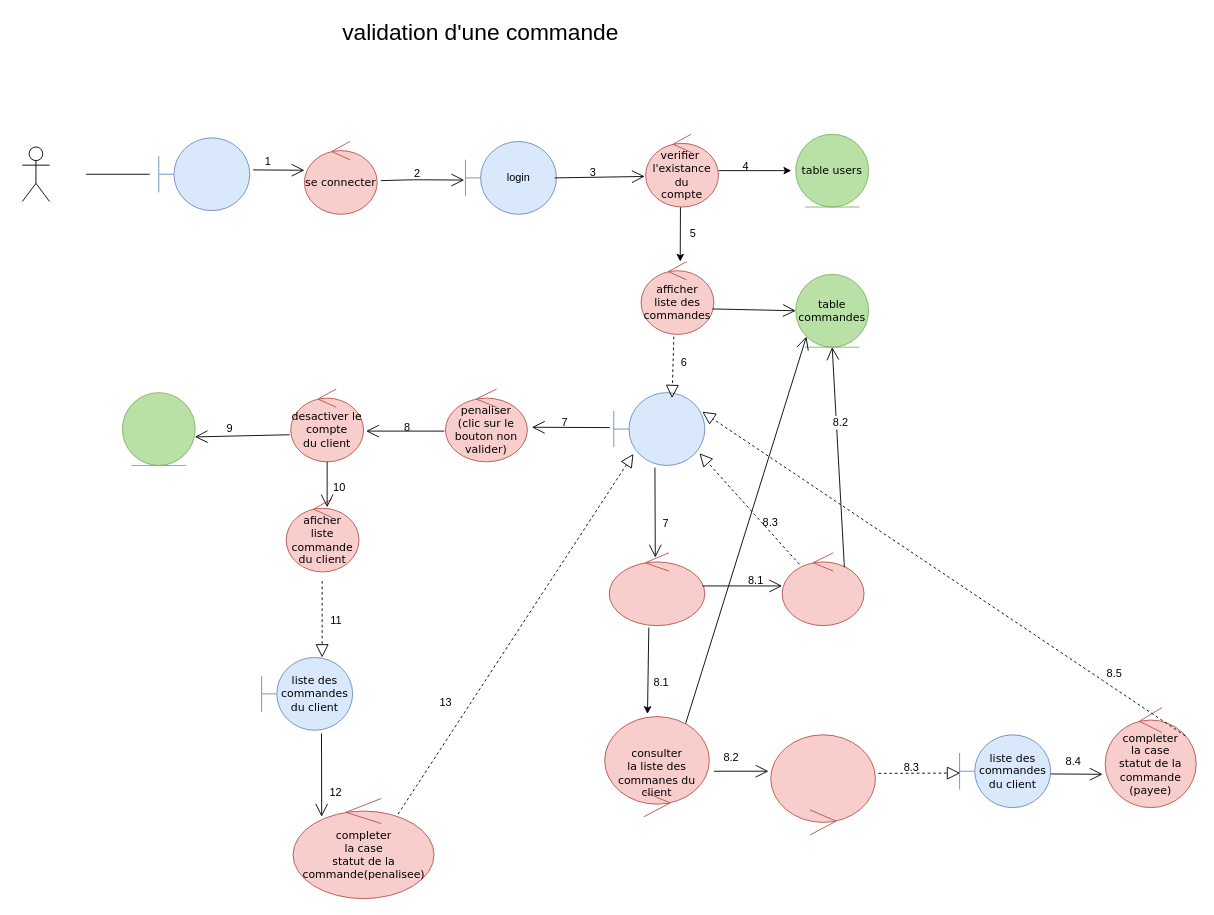
Image size: 1214x915. Some labels were removed from this diagram. Here are the shapes that lost their labels. From the top down, the box of each, then its label:
(21, 146, 50, 202): employe
(158, 137, 250, 211): accueil
(121, 392, 195, 465): table user (compte)
(613, 392, 705, 465): liste des commandes
(608, 552, 705, 626): valider une commande (clic sur bouton valider)
(781, 552, 864, 626): supprimer une commande de la liste
(770, 734, 875, 835): afficher la liste des commandes du client
